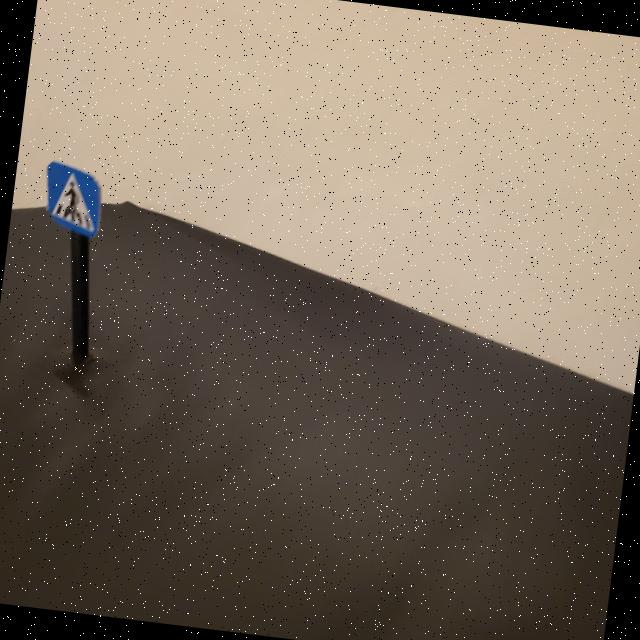crosswalk: (38, 160, 112, 238)
